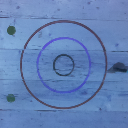Axe Tip: (105, 71, 116, 73)
